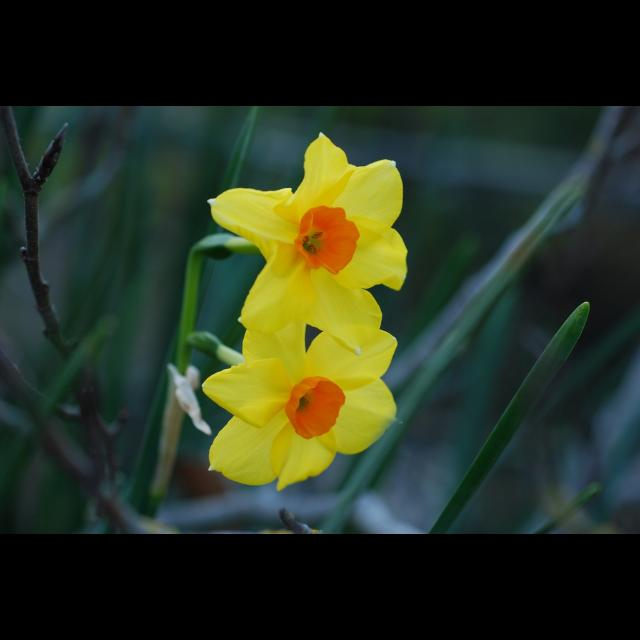Flower: (198, 132, 414, 358), (202, 321, 396, 494), (168, 362, 216, 436)
